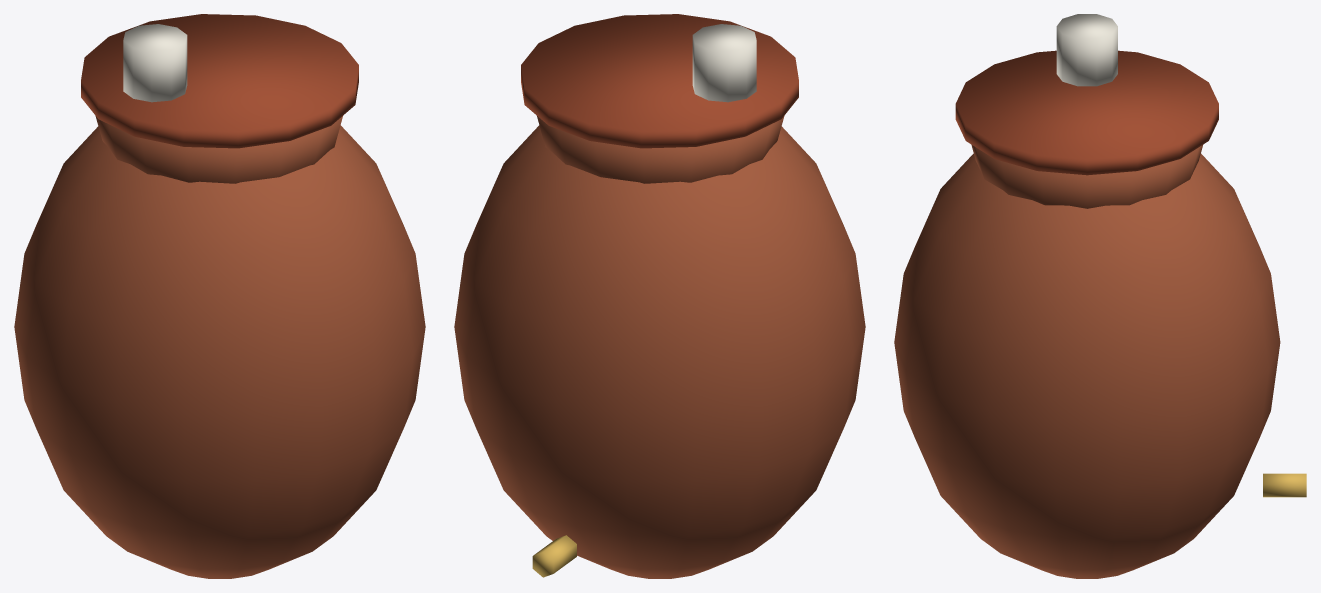
Rendered from SM_PRP_Talha.fbx.
3 renders of one model, left to right at view 1: azimuth 30°, elevation 25°; view 2: azimuth 150°, elevation 25°; view 3: azimuth 270°, elevation 25°, orthographic. The views are drawn at different scales.
Visible parts, largest first — view 1: SM_PRP_Talha; view 2: SM_PRP_Talha; view 3: SM_PRP_Talha.
Part boxes in pixels (<box>): SM_PRP_Talha: <box>14,14,425,578</box>; SM_PRP_Talha: <box>454,14,865,578</box>; SM_PRP_Talha: <box>894,14,1306,578</box>.
Bounding box in the file's own units: 0.4333 × 0.64 × 0.47.
